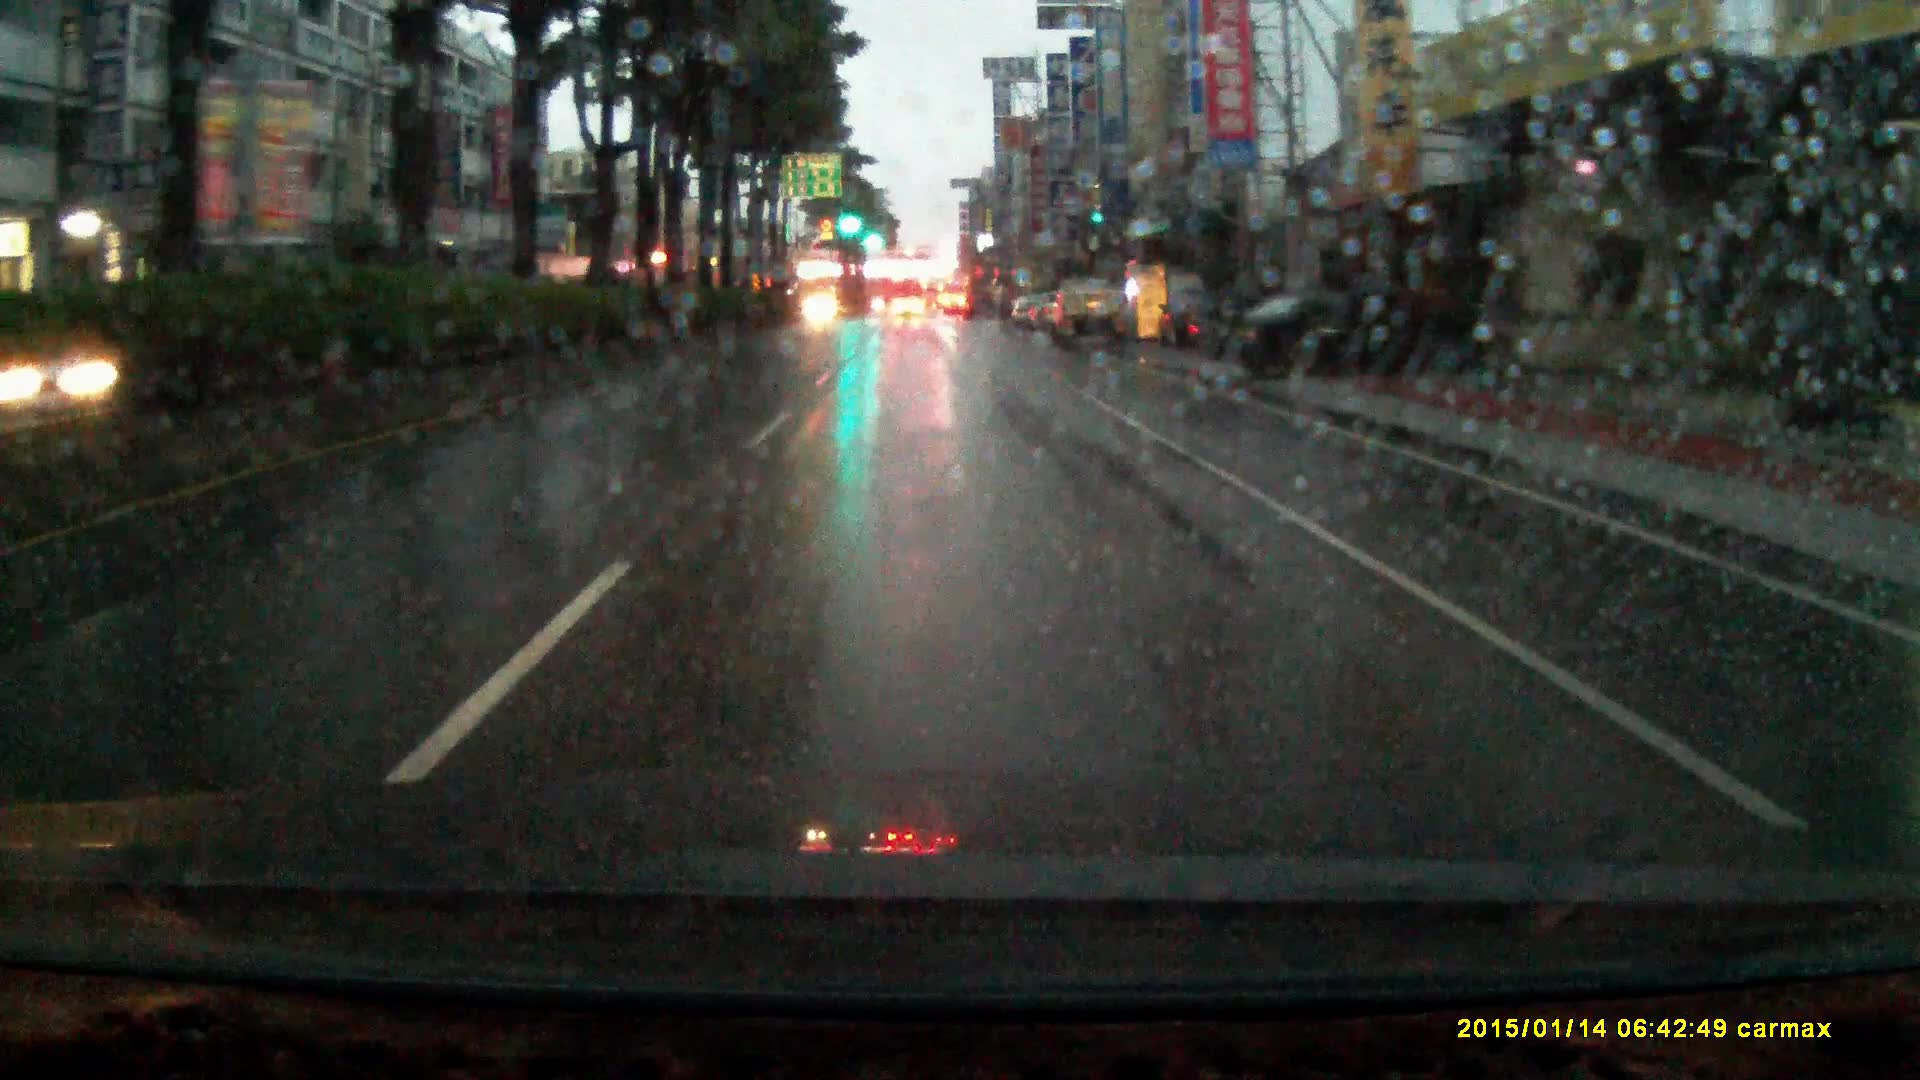vehicle: (1199, 295, 1498, 380), (1054, 280, 1124, 353), (1156, 295, 1236, 359), (802, 298, 843, 334), (890, 301, 927, 324), (923, 281, 945, 318)
